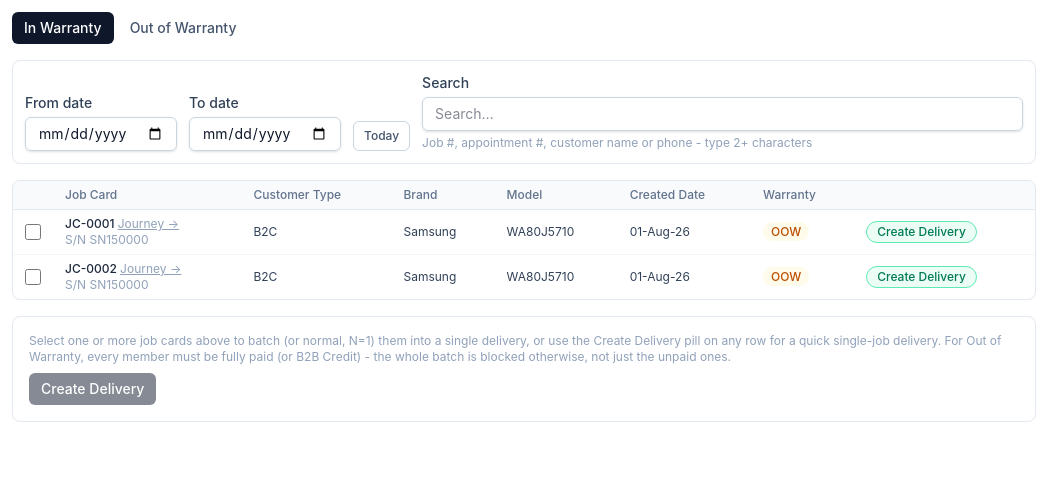
Test case: ReadyForDeliveryPage - batch select and create › disables Create Delivery until at least one row is selected, then posts the selected ids
expect the text "JC-0001 Journey →" is shown: met, box [65, 216, 179, 231]
expect the 3rd button "Create Delivery" is disabled: met, box [29, 373, 156, 405]
Click the checkbox next to "JC-0001". click: [33, 232]
box: [25, 224, 41, 240]
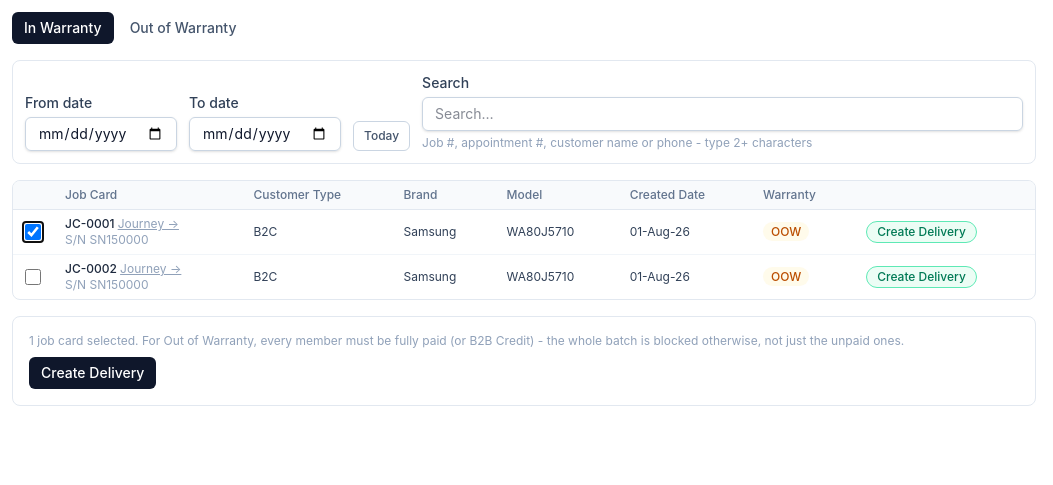
expect the button "Create Delivery" below "1 job card selected." is enabled: met
Click the button "Create Delivery" below "1 job card selected.". click: [93, 373]
box: [29, 357, 156, 389]
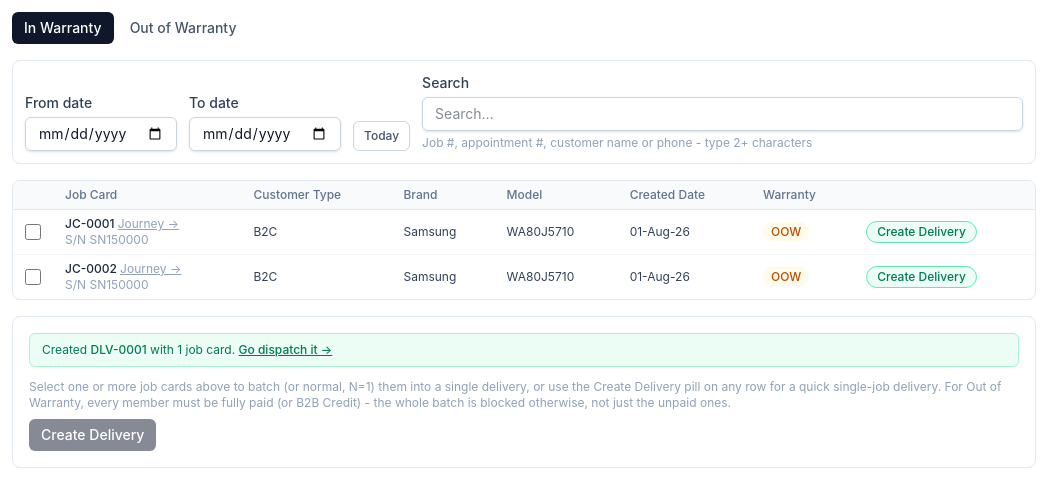
expect the text "DLV-0001" is shown: met, box [90, 342, 147, 357]
